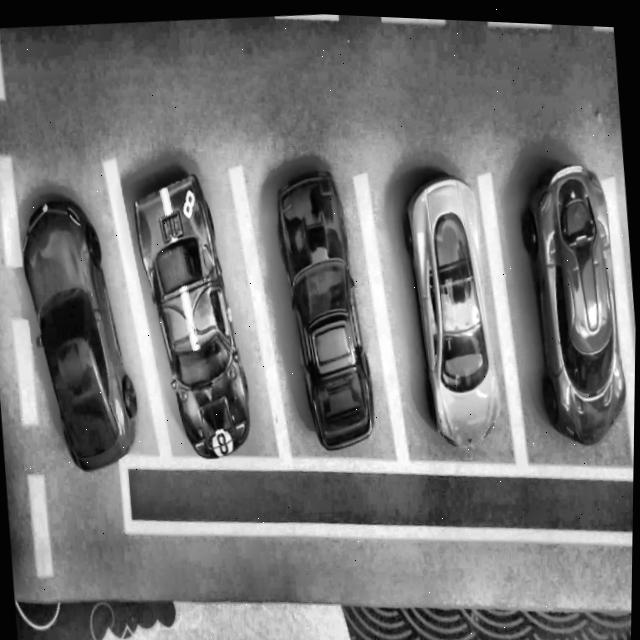car: (128, 164, 258, 462), (15, 190, 146, 475), (513, 152, 634, 445), (269, 160, 380, 450), (397, 164, 508, 446)
